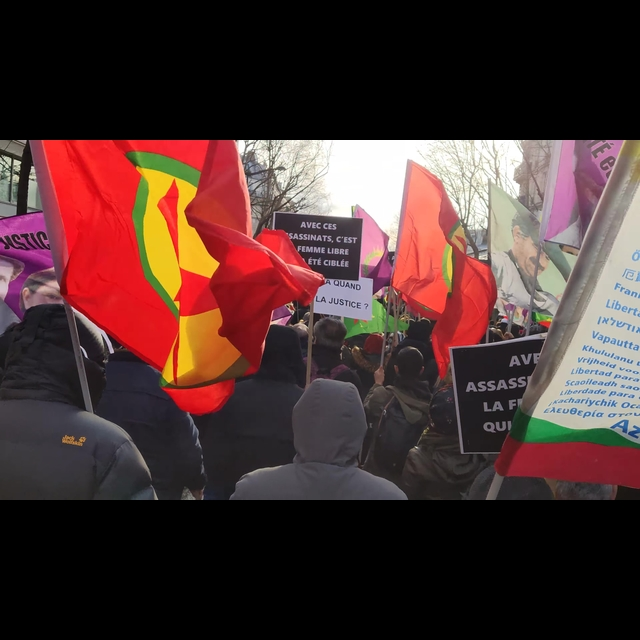PKK: (23, 141, 298, 425), (390, 153, 496, 389)
